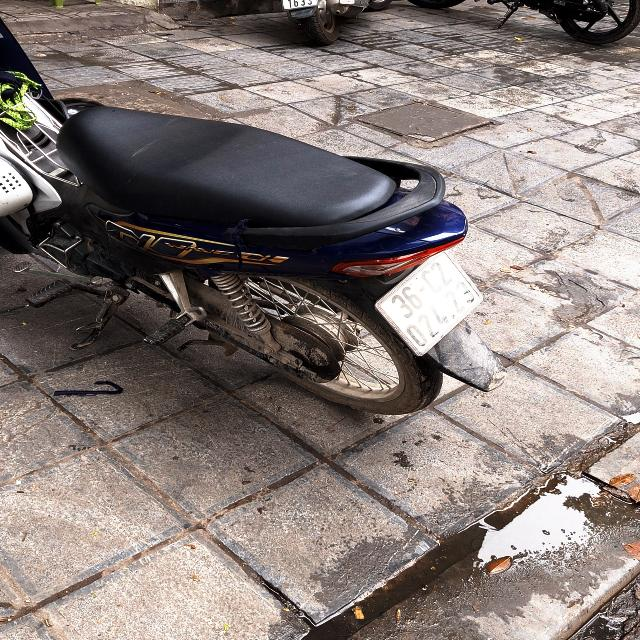license_plate: (376, 247, 488, 357)
